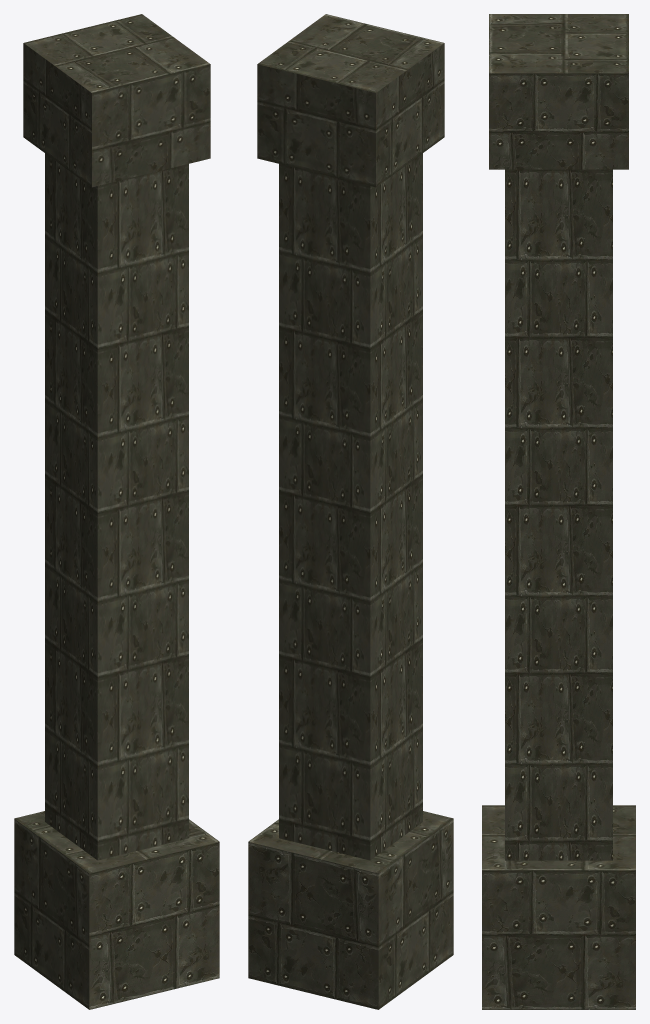
The model's file is pillar_metal4.glb.
The picture shows the model from 3 angles, left to right: view 1: azimuth 30°, elevation 25°; view 2: azimuth 150°, elevation 25°; view 3: azimuth 270°, elevation 25°; orthographic projection. The views are drawn at different scales.
Parts seen in each view (by area): view 1: Cube; view 2: Cube; view 3: Cube.
Boxes of the visible parts, x1=… form: Cube: x1=14, y1=14, x2=219, y2=1009; Cube: x1=248, y1=14, x2=453, y2=1009; Cube: x1=482, y1=14, x2=635, y2=1009.
Size of what is drawn, in the model's own units: 0.8 by 5.35 by 0.8.
1 material, 1 textured.
